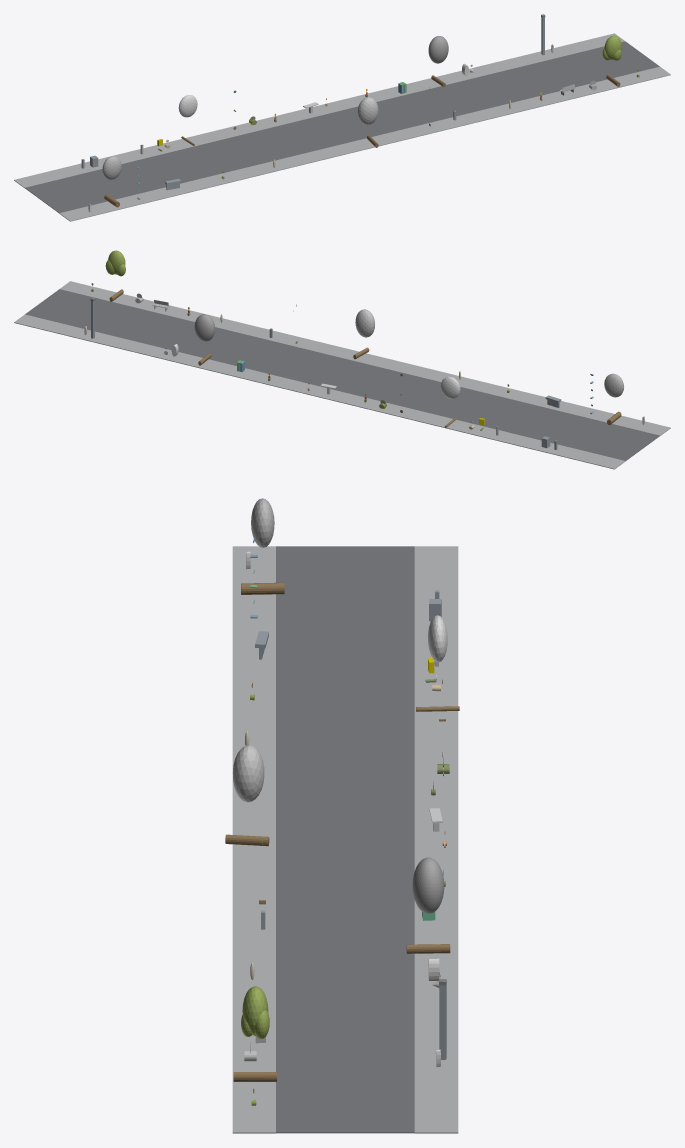
3 views of the same model, one above another, from view 1: azimuth 30°, elevation 25°; view 2: azimuth 150°, elevation 25°; view 3: azimuth 270°, elevation 25° (orthographic). The views are drawn at different scales.
Parts seen in each view (by area): view 1: road_slab, sidewalk_left, sidewalk_right, inst_0014, inst_0015, inst_0016, inst_0012, inst_0013; view 2: road_slab, sidewalk_right, sidewalk_left, inst_0014, inst_0015, inst_0016, inst_0012, inst_0013; view 3: road_slab, sidewalk_right, sidewalk_left, inst_0014, inst_0015, inst_0016, inst_0012, inst_0013.
Part boxes in pixels (x1,y1,x2,y2): road_slab: [25, 41, 659, 213]; sidewalk_left: [59, 66, 670, 221]; sidewalk_right: [14, 33, 624, 188]; inst_0014: [357, 97, 378, 147]; inst_0015: [428, 36, 448, 87]; inst_0016: [602, 35, 621, 86]; inst_0012: [102, 156, 121, 207]; inst_0013: [178, 95, 197, 145]; road_slab: [25, 289, 659, 461]; sidewalk_right: [14, 314, 625, 469]; sidewalk_left: [60, 281, 670, 435]; inst_0014: [353, 309, 374, 359]; inst_0015: [194, 314, 214, 365]; inst_0016: [105, 250, 125, 301]; inst_0012: [604, 373, 623, 425]; inst_0013: [440, 376, 460, 427]; road_slab: [276, 546, 414, 1133]; sidewalk_right: [414, 546, 458, 1133]; sidewalk_left: [232, 546, 275, 1133]; inst_0014: [225, 745, 269, 846]; inst_0015: [406, 857, 450, 953]; inst_0016: [233, 986, 276, 1081]; inst_0012: [241, 498, 284, 594]; inst_0013: [416, 615, 459, 711].
Size of the model in its own units: 80 by 6.08 by 13.51.
